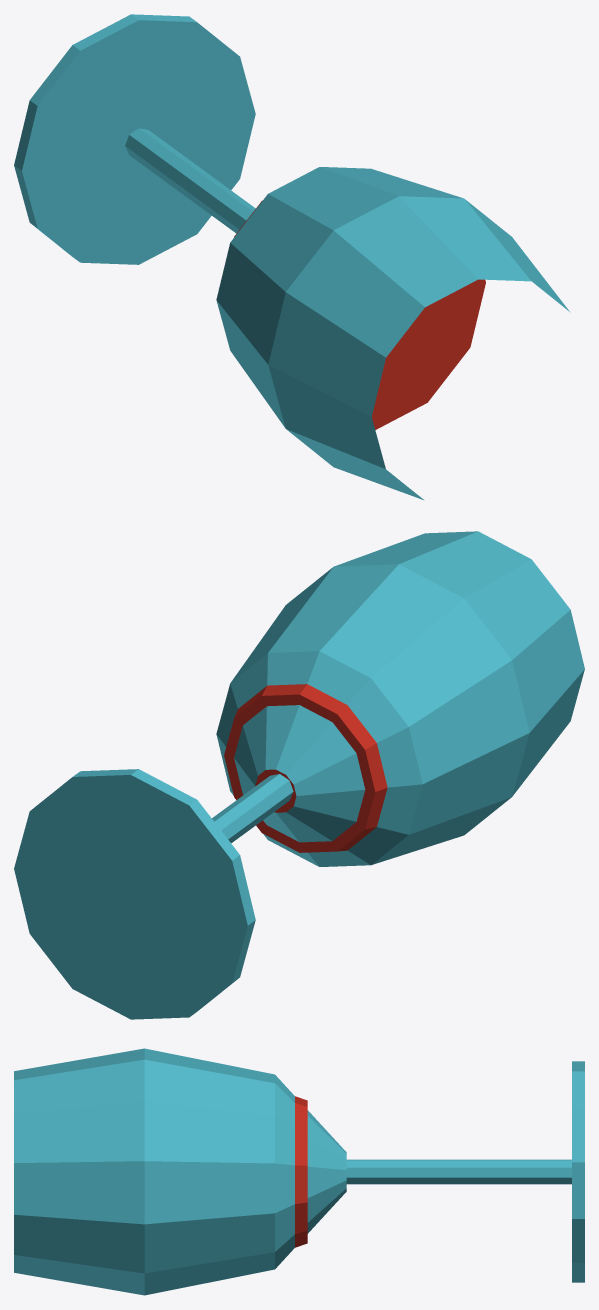
The model's file is wine_glass.glb.
The picture shows the model from 3 angles, top to bottom: view 1: azimuth 30°, elevation 25°; view 2: azimuth 150°, elevation 25°; view 3: azimuth 270°, elevation 25°; orthographic projection. The views are drawn at different scales.
Visible parts, largest first — view 1: wine_glass_mesh; view 2: wine_glass_mesh; view 3: wine_glass_mesh.
Part boxes in pixels (x1,y1,x2,y2): wine_glass_mesh: (14,14,570,500); wine_glass_mesh: (14,531,584,1019); wine_glass_mesh: (14,1048,584,1295).
Size of the model in its own units: 0.076 by 0.076 by 0.175.
1 material, 1 textured.
